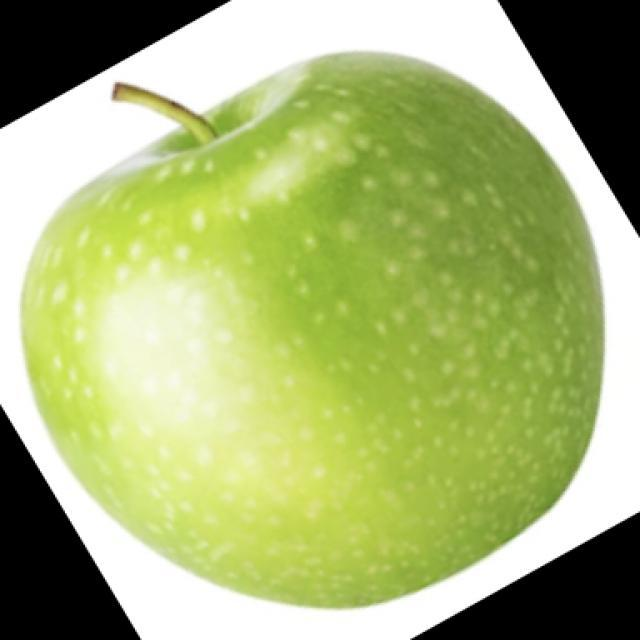Fresh Apple: (31, 58, 596, 605)
